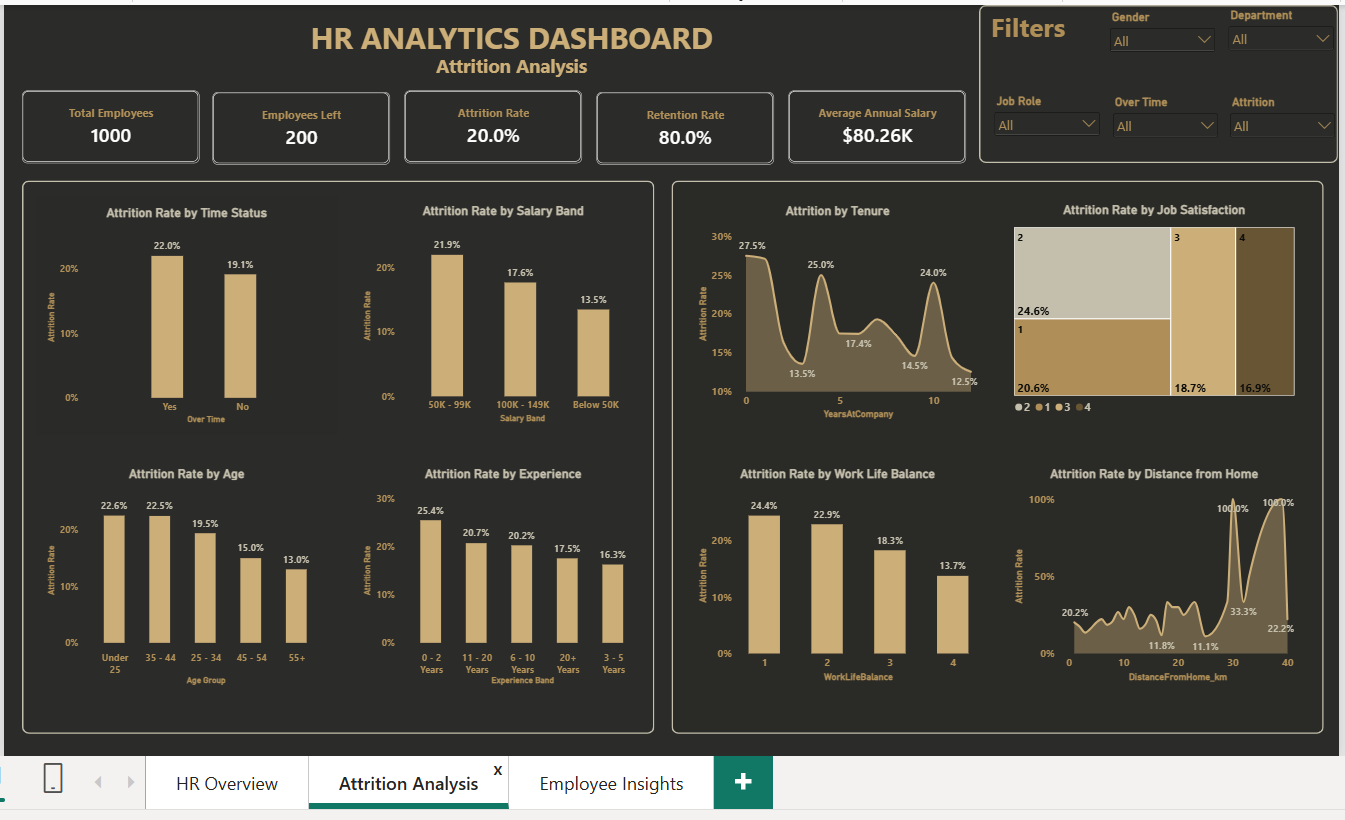

This screenshot's page, from the dashboard's own definition file:
{"tool":"powerbi","page":{"name":"Attrition Analysis","canvas":[1920,1080],"ordinal":1},"visuals":[{"type":"shape","box":[959.2,253.4,937.9,795.8],"z":0},{"type":"shape","box":[26.1,253.4,909.5,795.8],"z":1000},{"type":"shape","box":[1402.1,0,516.3,227.4],"z":2000},{"type":"cardVisual","fields":{"Data":["HR Measures.Total Employees"]},"box":[26,124,255,104.5],"z":3000},{"type":"cardVisual","fields":{"Data":["HR Measures.Attrition Rate"]},"box":[575.5,124,255,104.5],"z":4000},{"type":"cardVisual","fields":{"Data":["HR Measures.Retention Rate"]},"box":[852.6,125.5,255,104.5],"z":5000},{"type":"cardVisual","fields":{"Data":["HR Measures.Average Annual Salary"]},"box":[1127.4,123.2,255,104.5],"z":6000},{"type":"cardVisual","fields":{"Data":["HR Measures.Employees Left"]},"box":[300.8,125.5,255,104.5],"z":7000},{"type":"slicer","fields":{"Values":["Employee_Data.Gender"]},"box":[1584.5,7.1,161.1,95],"z":8000},{"type":"slicer","fields":{"Values":["Employee_Data.JobRole"]},"box":[1418.7,127.5,161.1,95],"z":9000},{"type":"slicer","fields":{"Values":["Employee_Data.Attrition"]},"box":[1757.4,130.4,161.1,95],"z":10000},{"type":"slicer","fields":{"Values":["Employee_Data.OverTime"]},"box":[1589.2,130.4,161.1,95],"z":11000},{"type":"slicer","fields":{"Values":["Employee_Data.Department"]},"box":[1755,4.7,161.1,95],"z":12000},{"type":"textbox","box":[156.7,6.8,1144.7,102.2],"z":13000},{"type":"textbox","box":[1418.7,7.1,142.1,68.7],"z":14000},{"type":"columnChart","title":"Attrition Rate by Time Status","fields":{"Category":["Employee_Data.Over Time"],"Y":["HR Measures.Attrition Rate"]},"box":[46.2,274.4,435,345],"z":15000},{"type":"columnChart","title":"Attrition Rate by Salary Band","fields":{"Category":["Employee_Data.Salary Band"],"Y":["HR Measures.Attrition Rate"]},"box":[499.7,271.5,435,345],"z":16000},{"type":"columnChart","title":"Attrition Rate by Age","fields":{"Category":["Employee_Data.Age Group"],"Y":["HR Measures.Attrition Rate"]},"box":[46.2,650,435,345],"z":17000},{"type":"columnChart","title":"Attrition Rate by Experience","fields":{"Category":["Employee_Data.Experience Band"],"Y":["HR Measures.Attrition Rate"]},"box":[499.7,650,435,345],"z":18000},{"type":"areaChart","title":"Attrition by Tenure","fields":{"Category":["Employee_Data.YearsAtCompany"],"Y":["HR Measures.Attrition Rate"]},"box":[982.2,271.5,435,340],"z":19000},{"type":"treemap","title":"Attrition Rate by Job Satisfaction","fields":{"Group":["Employee_Data.JobSatisfaction"],"Values":["HR Measures.Attrition Rate"]},"box":[1435.7,268.7,435,340],"z":20000},{"type":"columnChart","title":"Attrition Rate by Work Life Balance","fields":{"Category":["Employee_Data.WorkLifeBalance"],"Y":["HR Measures.Attrition Rate"]},"box":[982.2,650,435,340],"z":21000},{"type":"areaChart","title":"Attrition Rate by Distance from Home","fields":{"Category":["Employee_Data.DistanceFromHome_km"],"Y":["HR Measures.Attrition Rate"]},"box":[1436,650,435,340],"z":22000}]}

Visuals, with their boxes on the page's 1920x1080 design canvas (x1, y1, x2, y2). These are canvas units, not pixel positions in the 1345x820 screenshot, which may show the page scaled, cropped or inside an application window:
shape: (x1=959, y1=253, x2=1897, y2=1049)
shape: (x1=26, y1=253, x2=936, y2=1049)
shape: (x1=1402, y1=0, x2=1918, y2=227)
cardVisual - HR Measures.Total Employees: (x1=26, y1=124, x2=281, y2=228)
cardVisual - HR Measures.Attrition Rate: (x1=576, y1=124, x2=830, y2=228)
cardVisual - HR Measures.Retention Rate: (x1=853, y1=126, x2=1108, y2=230)
cardVisual - HR Measures.Average Annual Salary: (x1=1127, y1=123, x2=1382, y2=228)
cardVisual - HR Measures.Employees Left: (x1=301, y1=126, x2=556, y2=230)
slicer - Employee_Data.Gender: (x1=1584, y1=7, x2=1746, y2=102)
slicer - Employee_Data.JobRole: (x1=1419, y1=128, x2=1580, y2=222)
slicer - Employee_Data.Attrition: (x1=1757, y1=130, x2=1918, y2=225)
slicer - Employee_Data.OverTime: (x1=1589, y1=130, x2=1750, y2=225)
slicer - Employee_Data.Department: (x1=1755, y1=5, x2=1916, y2=100)
textbox: (x1=157, y1=7, x2=1301, y2=109)
textbox: (x1=1419, y1=7, x2=1561, y2=76)
"Attrition Rate by Time Status" columnChart: (x1=46, y1=274, x2=481, y2=619)
"Attrition Rate by Salary Band" columnChart: (x1=500, y1=272, x2=935, y2=616)
"Attrition Rate by Age" columnChart: (x1=46, y1=650, x2=481, y2=995)
"Attrition Rate by Experience" columnChart: (x1=500, y1=650, x2=935, y2=995)
"Attrition by Tenure" areaChart: (x1=982, y1=272, x2=1417, y2=612)
"Attrition Rate by Job Satisfaction" treemap: (x1=1436, y1=269, x2=1871, y2=609)
"Attrition Rate by Work Life Balance" columnChart: (x1=982, y1=650, x2=1417, y2=990)
"Attrition Rate by Distance from Home" areaChart: (x1=1436, y1=650, x2=1871, y2=990)
